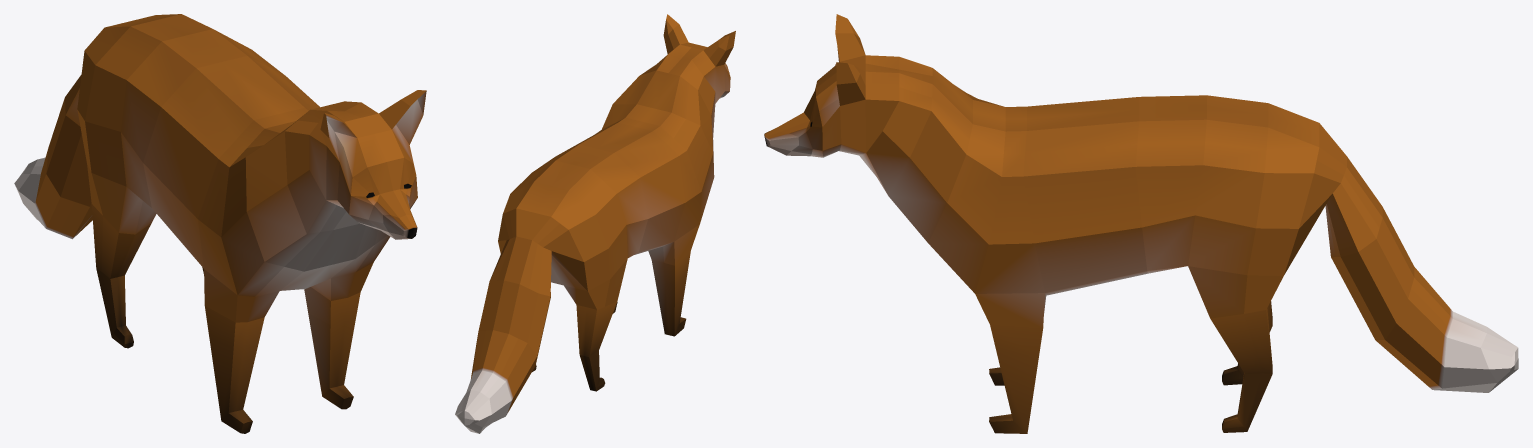
The model's file is fox.fbx.
3 views of the same model, side by side, from view 1: azimuth 30°, elevation 25°; view 2: azimuth 150°, elevation 25°; view 3: azimuth 270°, elevation 25° (orthographic). The views are drawn at different scales.
Parts seen in each view (by area): view 1: untitled; view 2: untitled; view 3: untitled.
Part boxes in pixels (x1,y1,x2,y2): untitled: (14, 14, 426, 433); untitled: (455, 14, 735, 433); untitled: (764, 14, 1518, 433).
Size of the model in its own units: 114 by 266 by 491.
